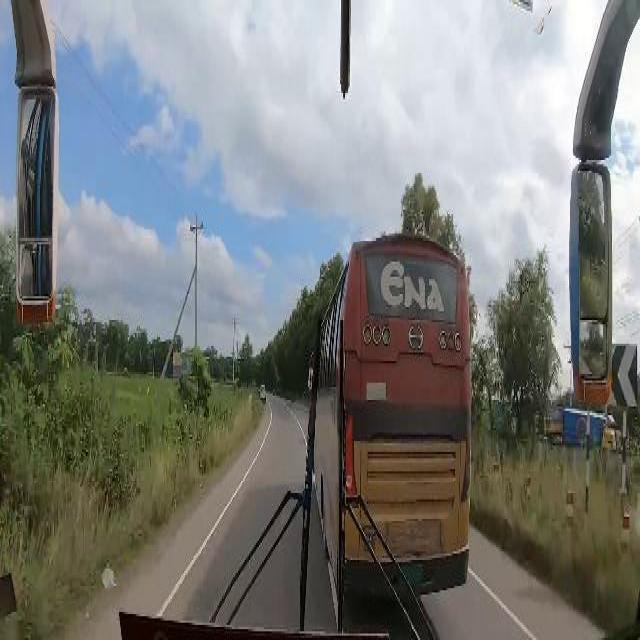bus: (310, 236, 472, 586)
truck: (562, 408, 616, 453), (546, 406, 566, 442)
